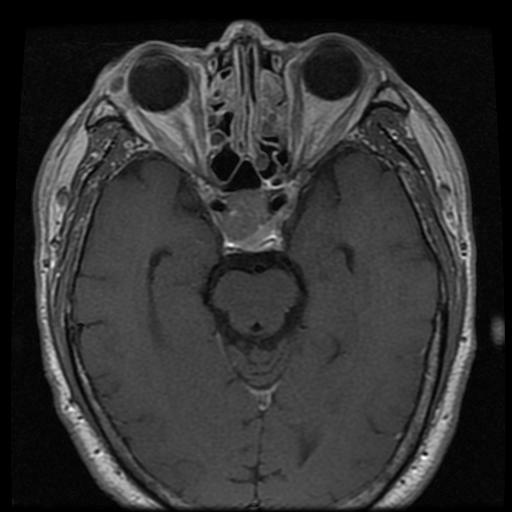Tumour-Pituitary: (196, 181, 303, 263)
